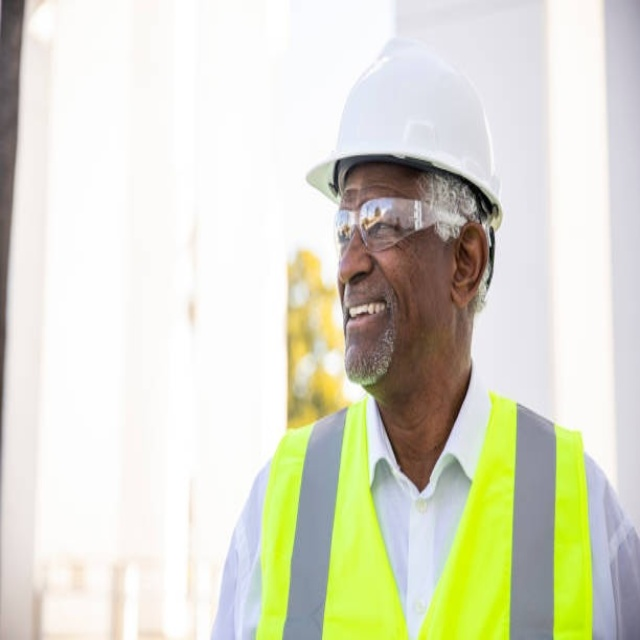Gafas: (332, 196, 469, 259)
Sin_mascara: (339, 282, 396, 364)
